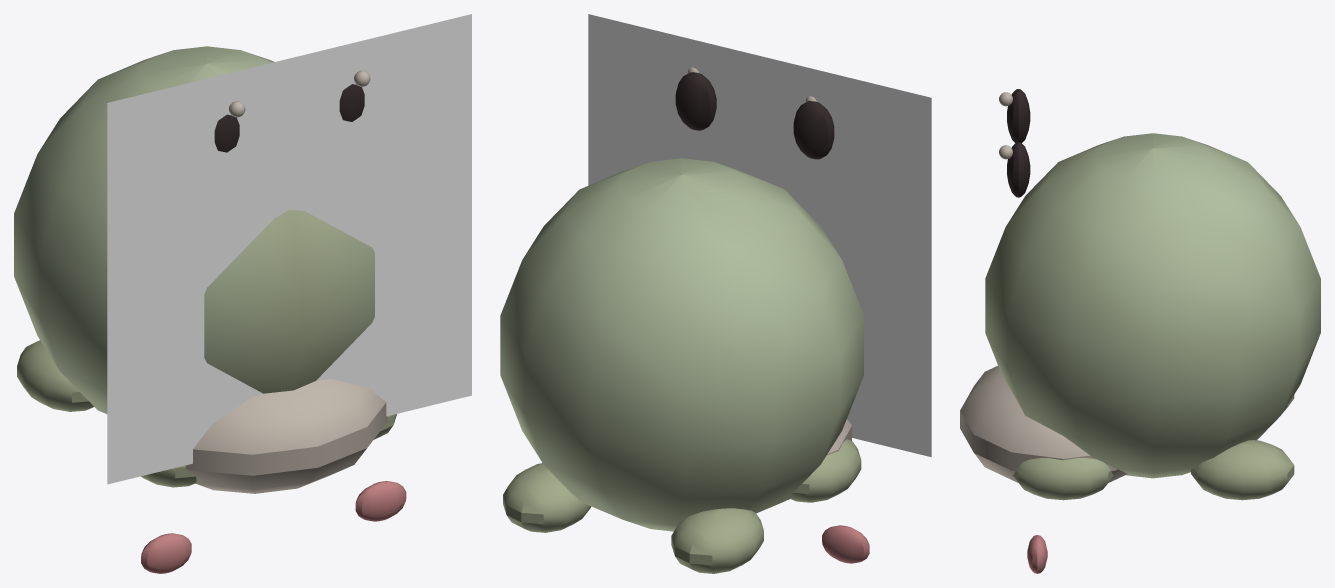
3 renders of one model, left to right at view 1: azimuth 30°, elevation 25°; view 2: azimuth 150°, elevation 25°; view 3: azimuth 270°, elevation 25°, orthographic. The views are drawn at different scales.
Parts seen in each view (by area): view 1: pet_p96d3208d; view 2: pet_p96d3208d; view 3: pet_p96d3208d.
Part boxes in pixels (bbox=[...]): pet_p96d3208d: bbox=[14, 14, 471, 573]; pet_p96d3208d: bbox=[500, 14, 931, 573]; pet_p96d3208d: bbox=[960, 89, 1320, 573].
Bounding box in the file's own units: 0.408 × 0.5342 × 0.4023.
